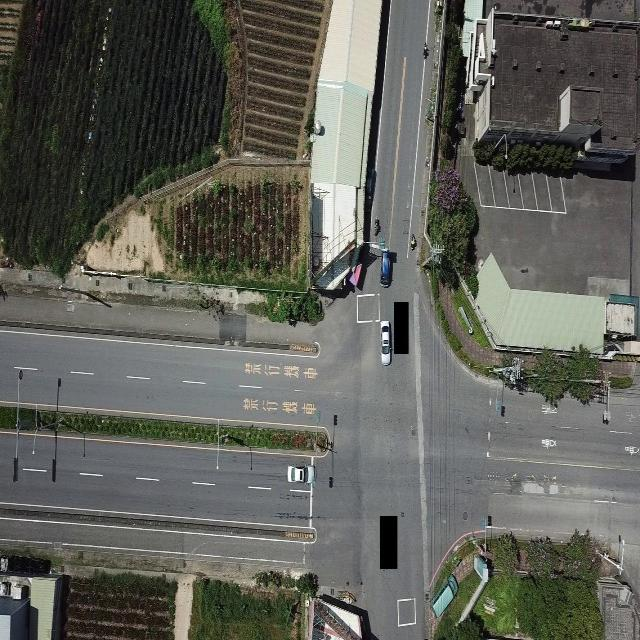car: (286, 460, 320, 491), (380, 320, 392, 366), (380, 246, 393, 287)
